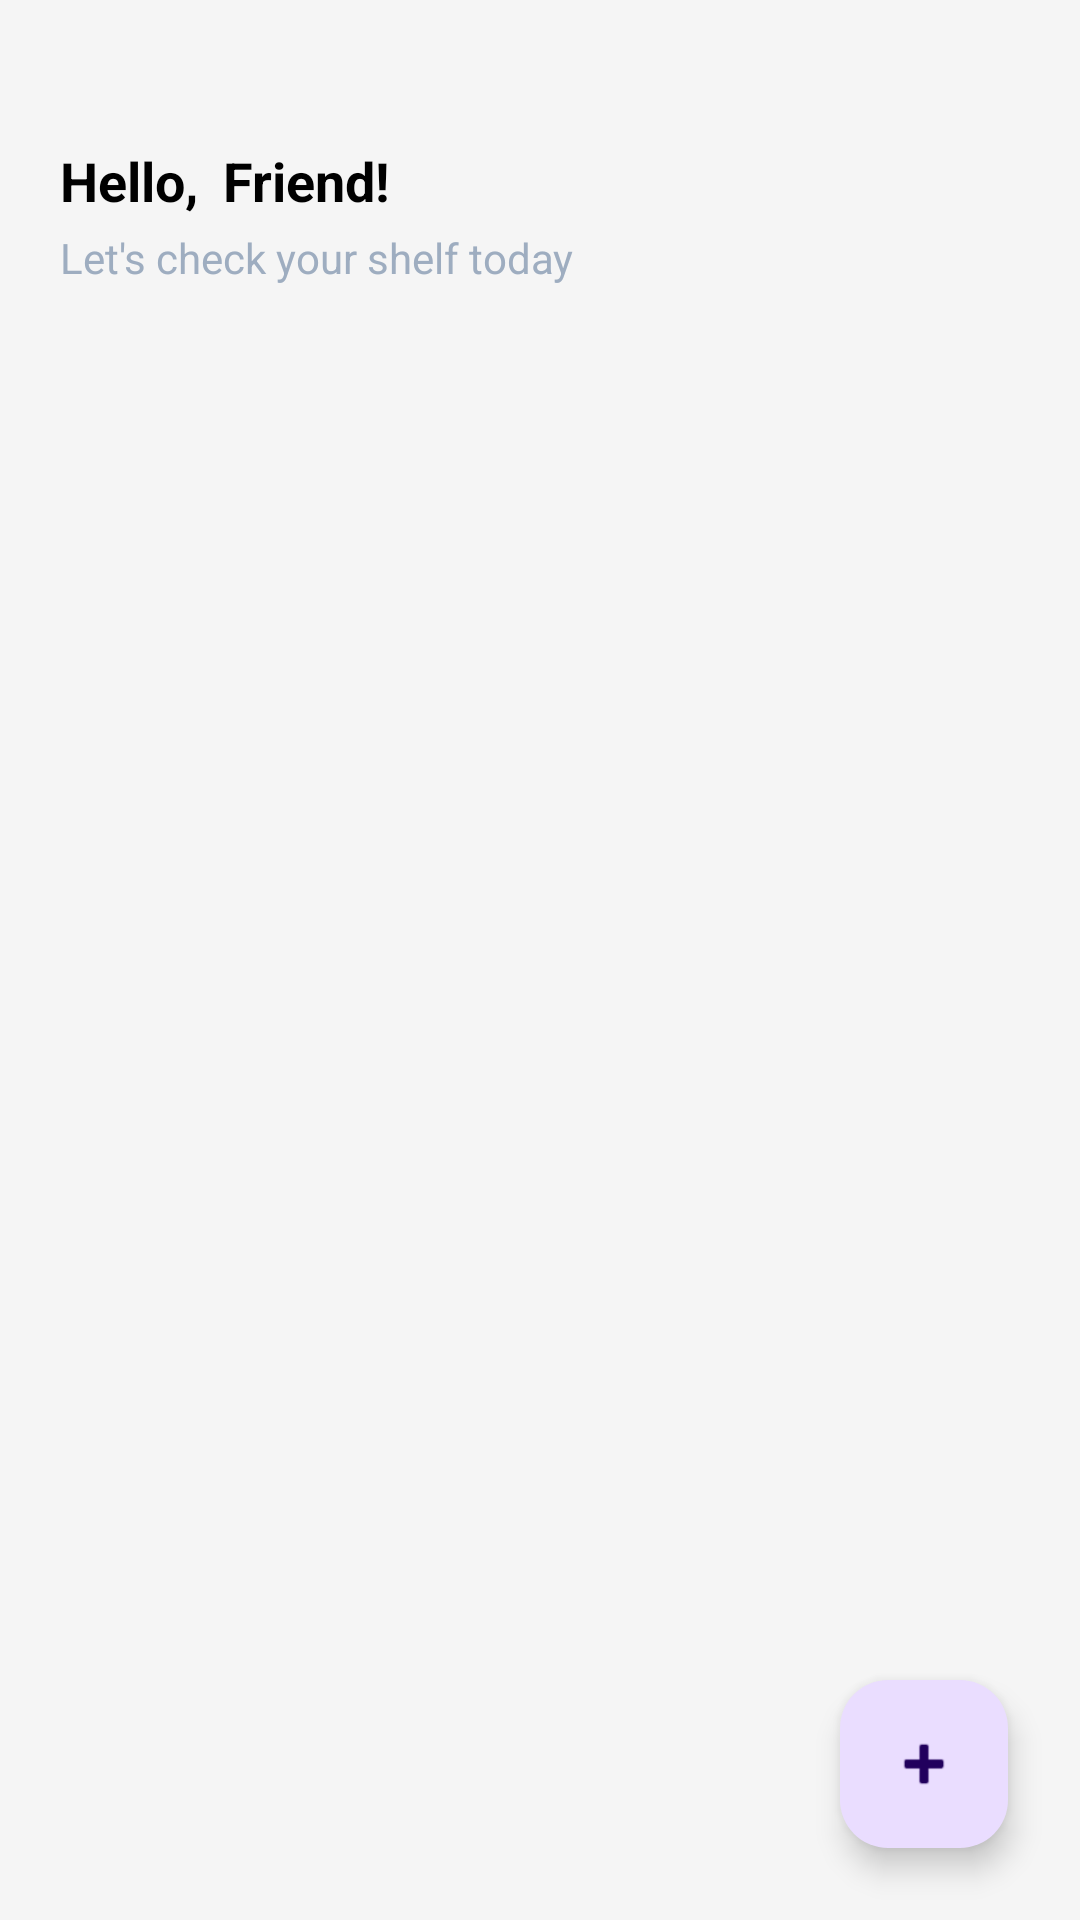

Icon click points for this 1080×1920 phone screenshot, format (x,y):
Add new item: (924,1764)
